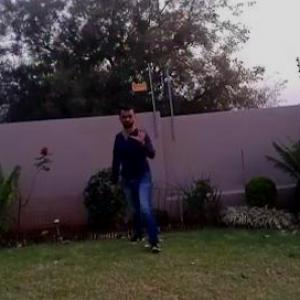follow_hand: (130, 120, 152, 147)
